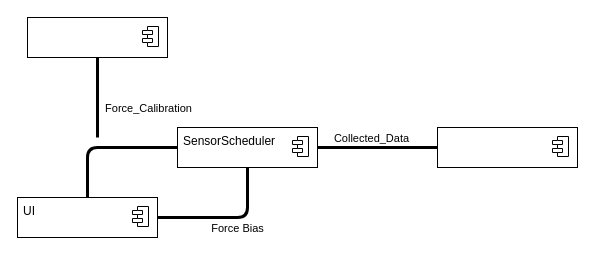
This 595x255 diagram has some shape labels left out. Each missing label, with the centre of its shape:
Button_Calibrator: point 97,37
MultiModalLogger: point 507,147
